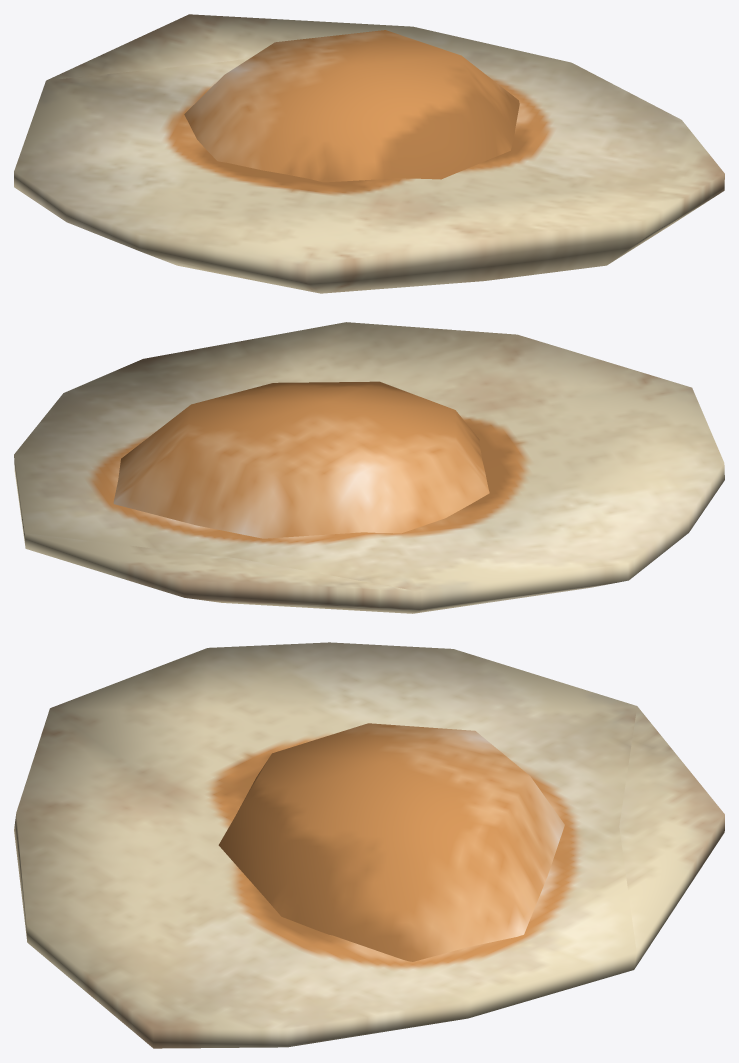
Rendered from LP_EggFried.glb.
The picture shows the model from 3 angles, top to bottom: view 1: azimuth 30°, elevation 25°; view 2: azimuth 150°, elevation 25°; view 3: azimuth 270°, elevation 25°; orthographic projection. The views are drawn at different scales.
Parts seen in each view (by area): view 1: Circle; view 2: Circle; view 3: Circle.
Part boxes in pixels (left/top/right/bottom): Circle: left=14, top=14, right=724, bottom=293; Circle: left=14, top=322, right=724, bottom=613; Circle: left=14, top=642, right=724, bottom=1048.
Bounding box in the file's own units: 0.6003 × 0.1298 × 0.5393.
1 material, 1 textured.
